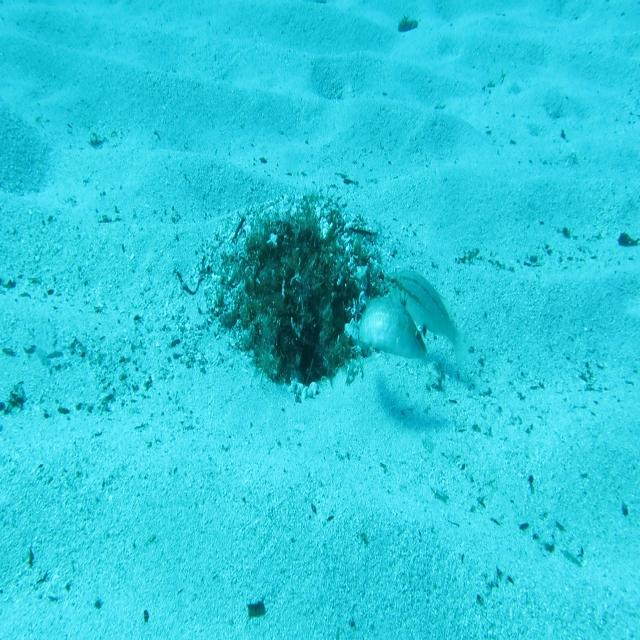DAN_CIRC: (355, 279, 429, 362)
core_nest: (273, 236, 320, 290)
female: (382, 267, 471, 376)
nest: (190, 166, 412, 420)
vegetation: (618, 230, 640, 248), (244, 602, 268, 618), (399, 14, 418, 30)
